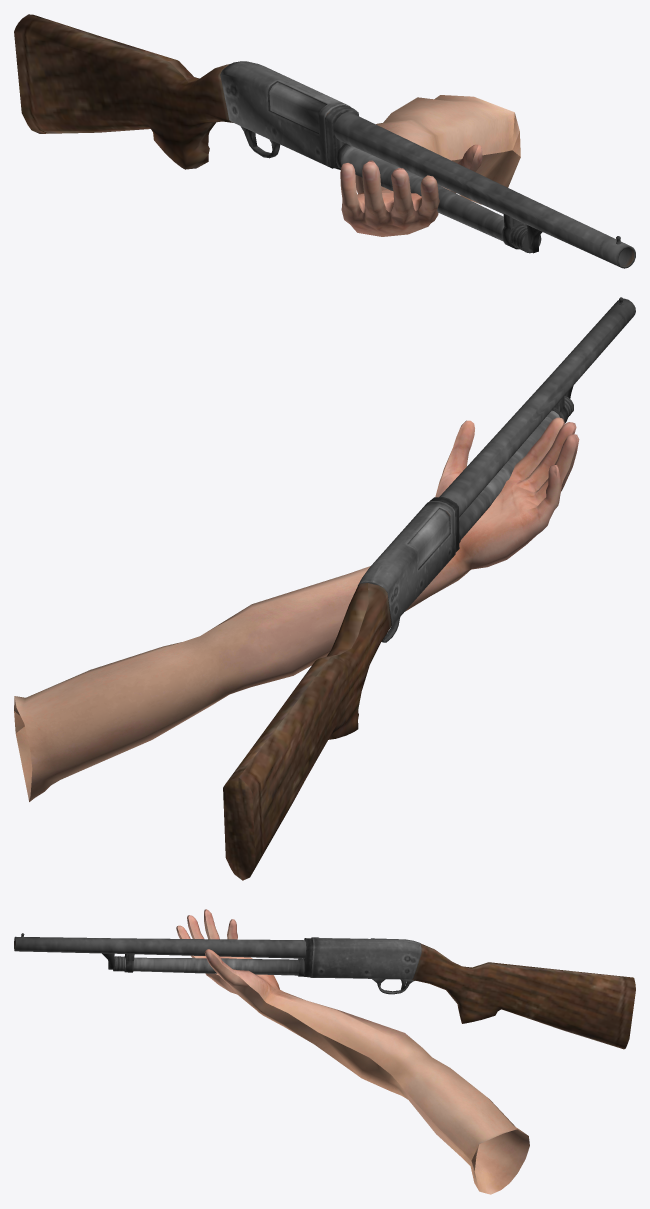
File: shotgun.glb
3 renders of one model, top to bottom at view 1: azimuth 30°, elevation 25°; view 2: azimuth 150°, elevation 25°; view 3: azimuth 270°, elevation 25°, orthographic. The views are drawn at different scales.
Visible parts, largest first — view 1: Escopeta_Modelo_Escopeta_0, Object_15; view 2: Object_15, Escopeta_Modelo_Escopeta_0; view 3: Escopeta_Modelo_Escopeta_0, Object_15.
Boxes of the visible parts, left/top/right/bottom form: Escopeta_Modelo_Escopeta_0: left=14, top=14, right=635, bottom=268; Object_15: left=340, top=95, right=520, bottom=236; Object_15: left=14, top=417, right=579, bottom=801; Escopeta_Modelo_Escopeta_0: left=223, top=297, right=635, bottom=880; Escopeta_Modelo_Escopeta_0: left=14, top=933, right=635, bottom=1049; Object_15: left=176, top=909, right=529, bottom=1194.
Size of the model in its own units: 0.8885 by 0.6865 by 2.05.
2 materials, 2 textured.
